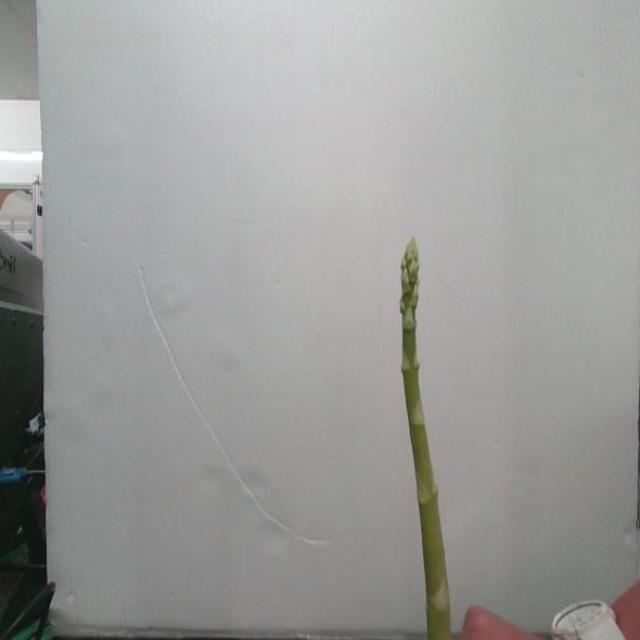aspargus: (401, 240, 455, 640)
